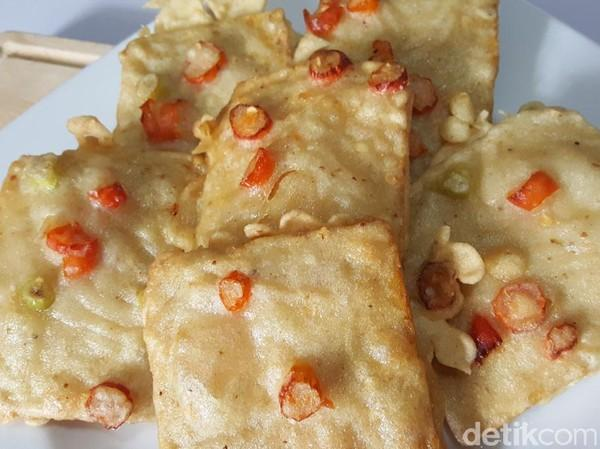kacang_legume: (158, 266, 385, 445), (420, 178, 581, 391), (17, 167, 139, 421), (237, 85, 377, 212), (341, 0, 472, 76), (132, 37, 222, 143)
